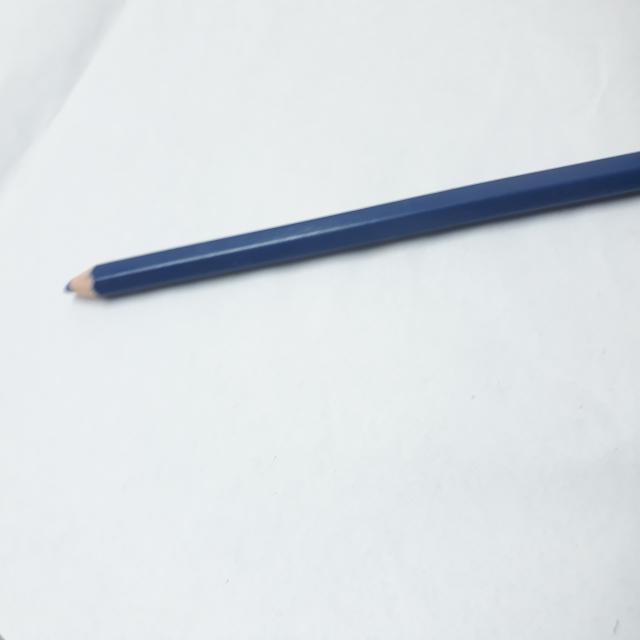pencil: (61, 145, 640, 312)
